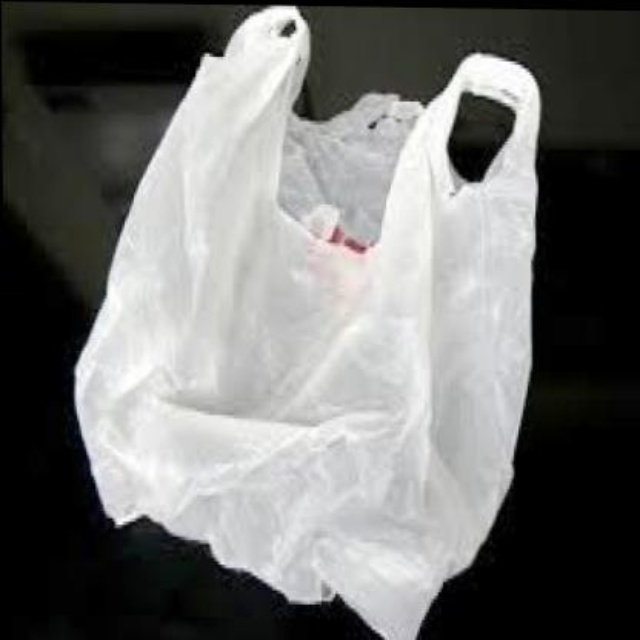trash: (75, 6, 538, 638)
